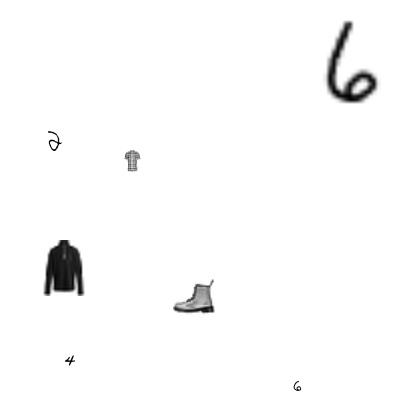2: (40, 127, 68, 155)
4: (63, 353, 77, 367)
6: (288, 14, 400, 126), (290, 380, 304, 394)
Ankle_boot: (173, 275, 215, 317)
Pullover: (36, 240, 92, 296)
Shirt: (121, 150, 143, 172)
